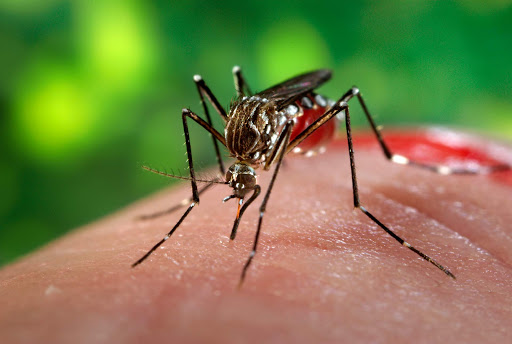dengue_mosquito: (137, 66, 453, 278)
